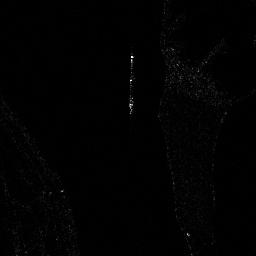ship: (127, 53, 135, 115)
